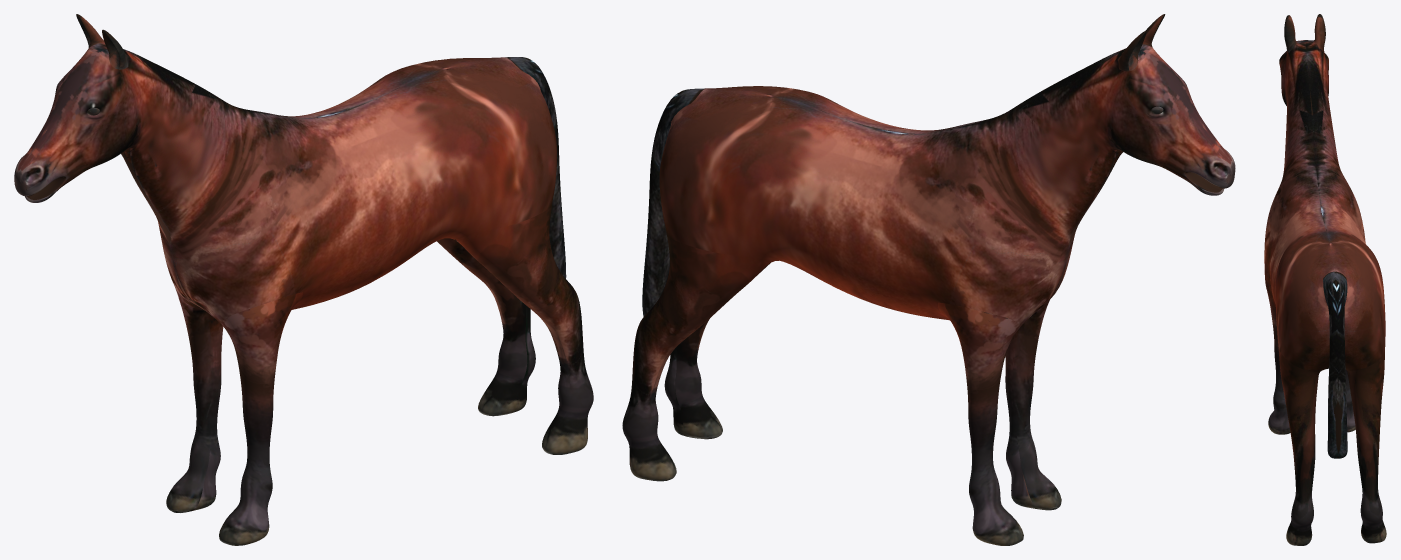
File: dhorse01.glb
3 renders of one model, left to right at view 1: azimuth 30°, elevation 25°; view 2: azimuth 150°, elevation 25°; view 3: azimuth 270°, elevation 25°, orthographic. The views are drawn at different scales.
Visible parts, largest first — view 1: 10026_Horse_v01-it2; view 2: 10026_Horse_v01-it2; view 3: 10026_Horse_v01-it2.
Boxes of the visible parts, x1,y1,x2,y2 form: 10026_Horse_v01-it2: (14, 14, 593, 545); 10026_Horse_v01-it2: (622, 14, 1235, 545); 10026_Horse_v01-it2: (1264, 14, 1386, 545).
Bounding box in the file's own units: 2.78 × 2.48 × 0.7425.
1 material, 1 textured.
